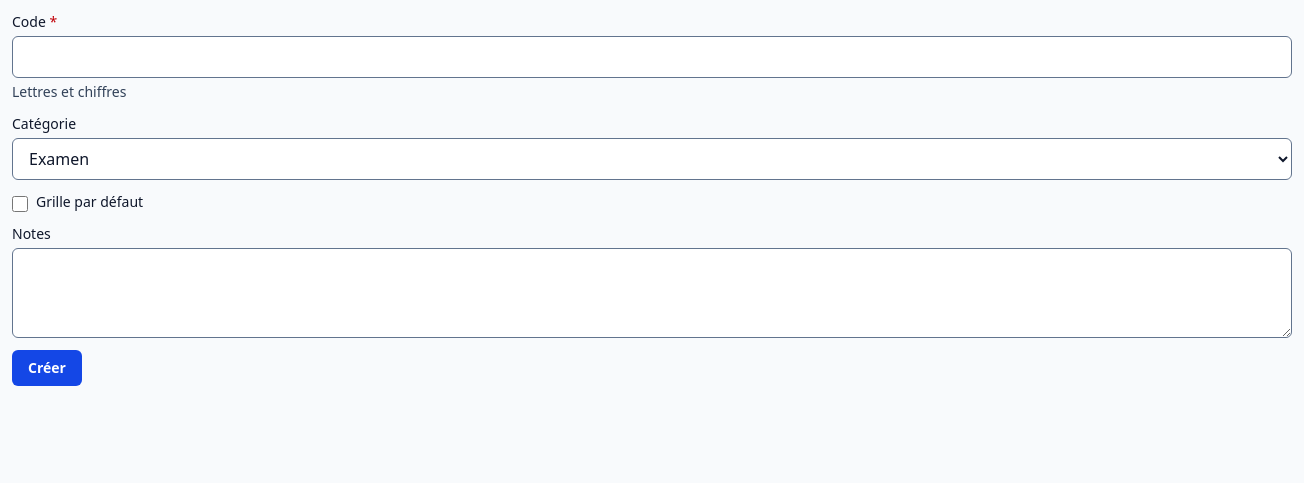
Test case: ActionForm › affiche les erreurs par champ avec aria-invalid et le message global en alerte
Step 1. Type "STD" into the field labelled "Code *" → coordinates (652, 57), box [12,36,1292,78]
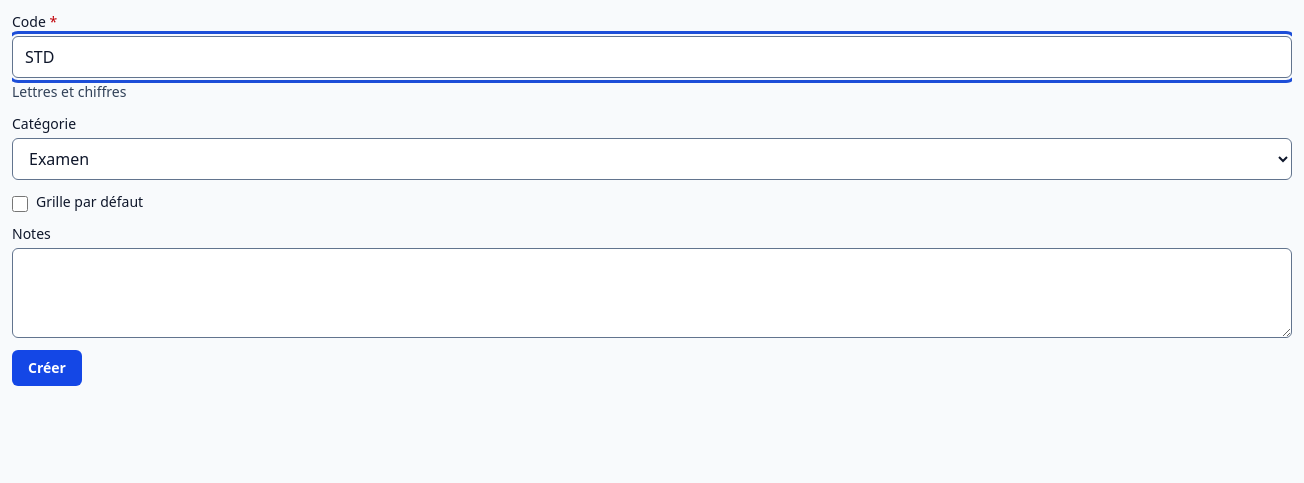
Step 2. Click the button "Créer" → coordinates (47, 368), box [12,350,82,386]
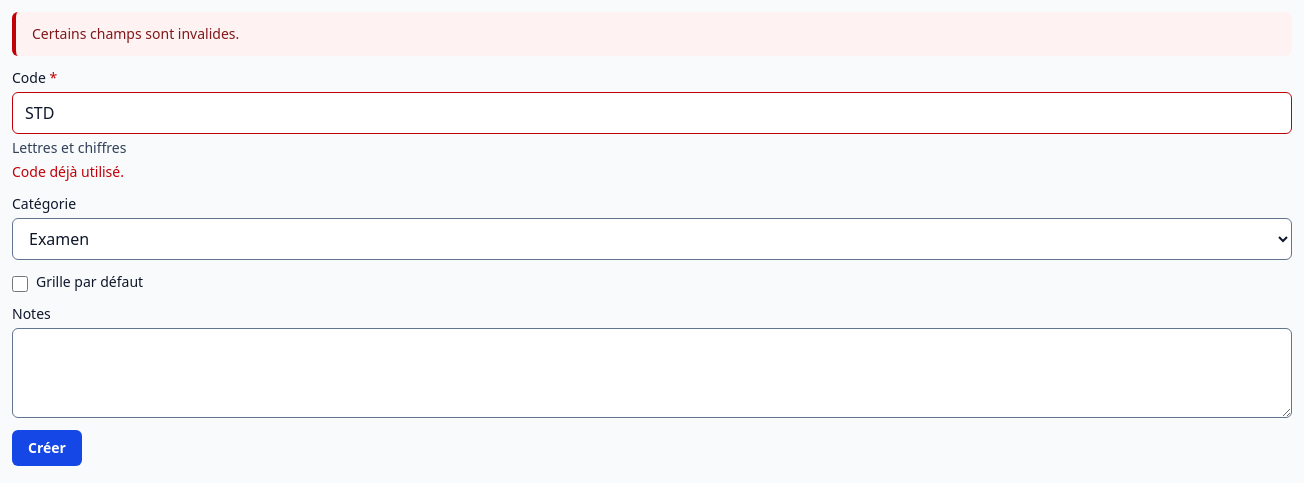
Now the message reads "Certains champs sont invalides.", box [32,24,239,43]
Now the text "Code déjà utilisé." is shown, box [12,162,124,181]
